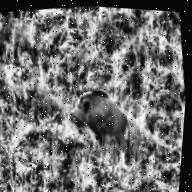boar: (56, 68, 144, 170)
